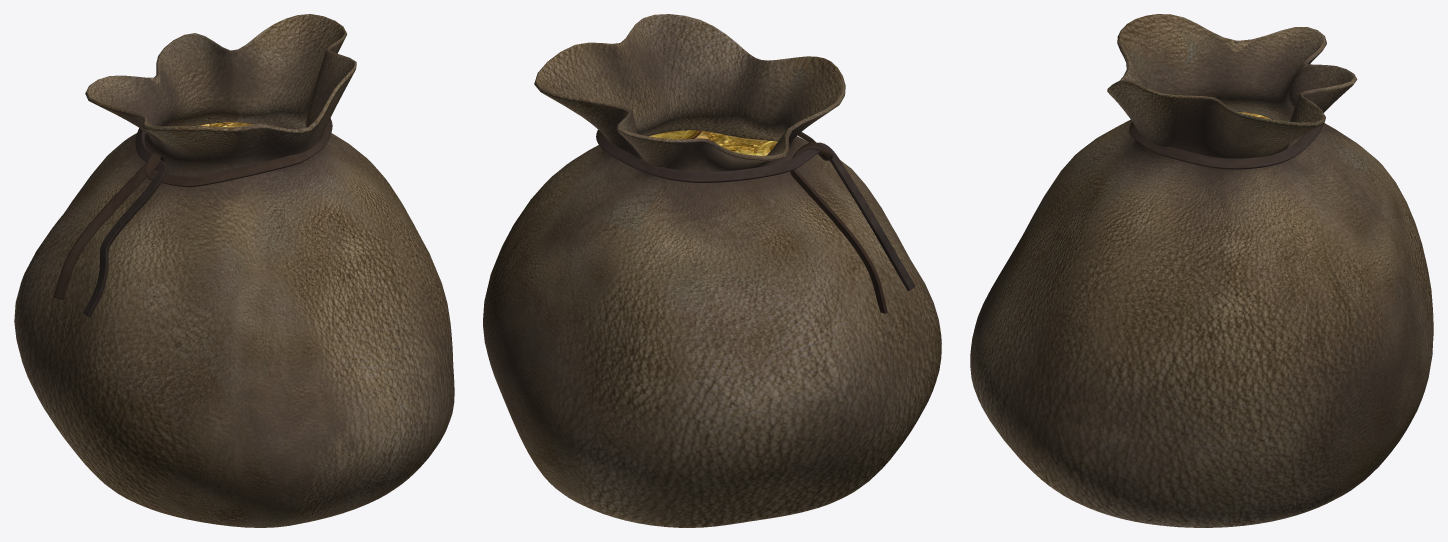
The model's file is SacoDeOuro.obj.
The picture shows the model from 3 angles, left to right: view 1: azimuth 30°, elevation 25°; view 2: azimuth 150°, elevation 25°; view 3: azimuth 270°, elevation 25°; orthographic projection. The views are drawn at different scales.
Visible parts, largest first — view 1: 13450_Bag_of_Gold_v1_L3; view 2: 13450_Bag_of_Gold_v1_L3; view 3: 13450_Bag_of_Gold_v1_L3.
Boxes of the visible parts, bbox=[...] form: 13450_Bag_of_Gold_v1_L3: bbox=[14, 14, 454, 527]; 13450_Bag_of_Gold_v1_L3: bbox=[483, 14, 941, 527]; 13450_Bag_of_Gold_v1_L3: bbox=[970, 14, 1433, 527].
Size of the model in its own units: 0.2144 by 0.2242 by 0.224.
1 material, 1 textured.
